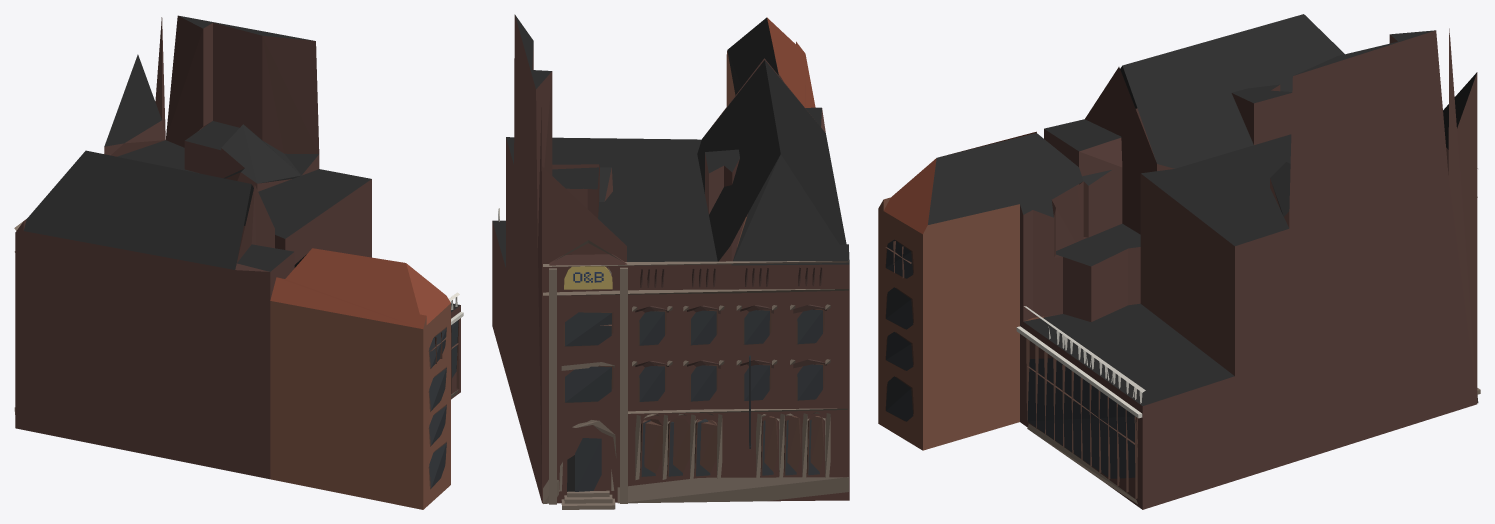
The model's file is de-jaren.lod1.glb.
3 renders of one model, left to right at view 1: azimuth 30°, elevation 25°; view 2: azimuth 150°, elevation 25°; view 3: azimuth 270°, elevation 25°, orthographic. The views are drawn at different scales.
Parts seen in each view (by area): view 1: de-jaren; view 2: de-jaren; view 3: de-jaren.
Boxes of the visible parts, box(x1,y1,x2,y2) form: de-jaren: box(14, 15, 463, 509); de-jaren: box(492, 14, 849, 509); de-jaren: box(878, 14, 1480, 509).
Size of the model in its own units: 29.18 by 24.36 by 34.38.
